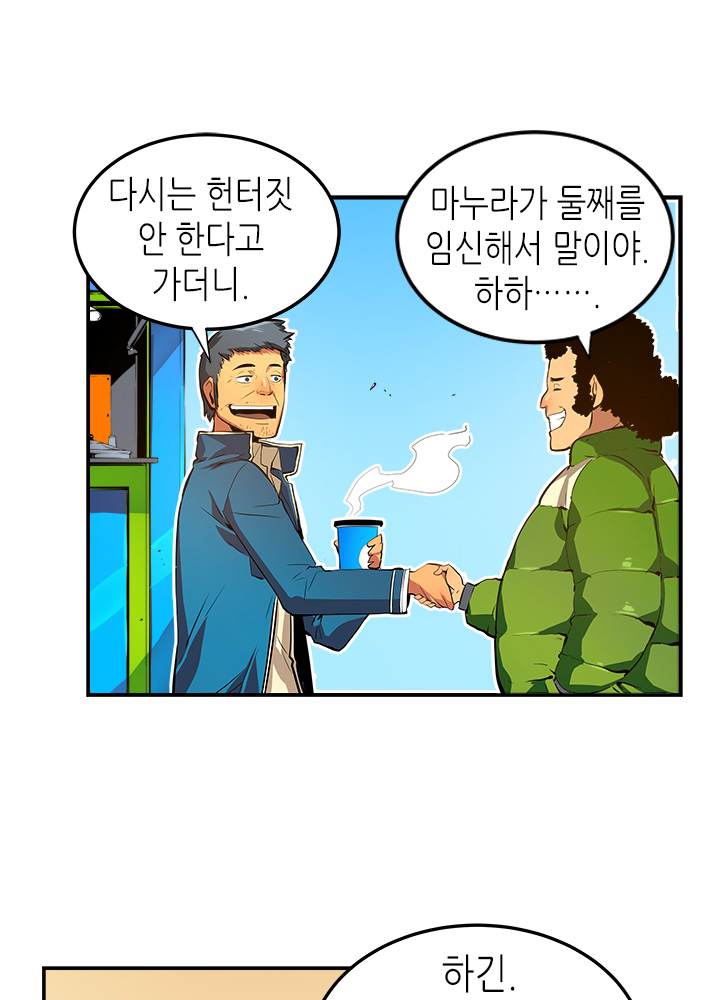dialog box: (372, 105, 715, 380), (44, 109, 376, 372), (287, 893, 673, 1000)
text: (407, 160, 668, 326), (93, 157, 313, 316), (420, 936, 521, 1000)
